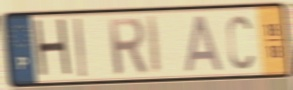A: (184, 14, 227, 75)
C: (225, 13, 255, 72)
H: (31, 16, 75, 82)
I: (146, 14, 164, 77), (72, 16, 88, 79)
R: (105, 15, 150, 77)
